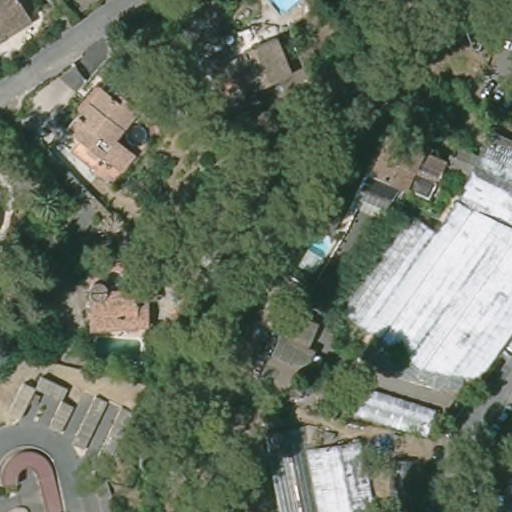pool: (304, 217, 344, 260), (265, 1, 305, 18)
